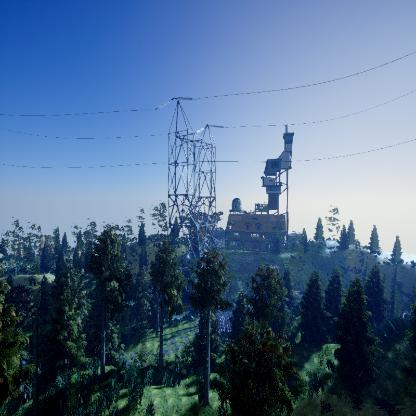tower: (162, 95, 219, 287)
